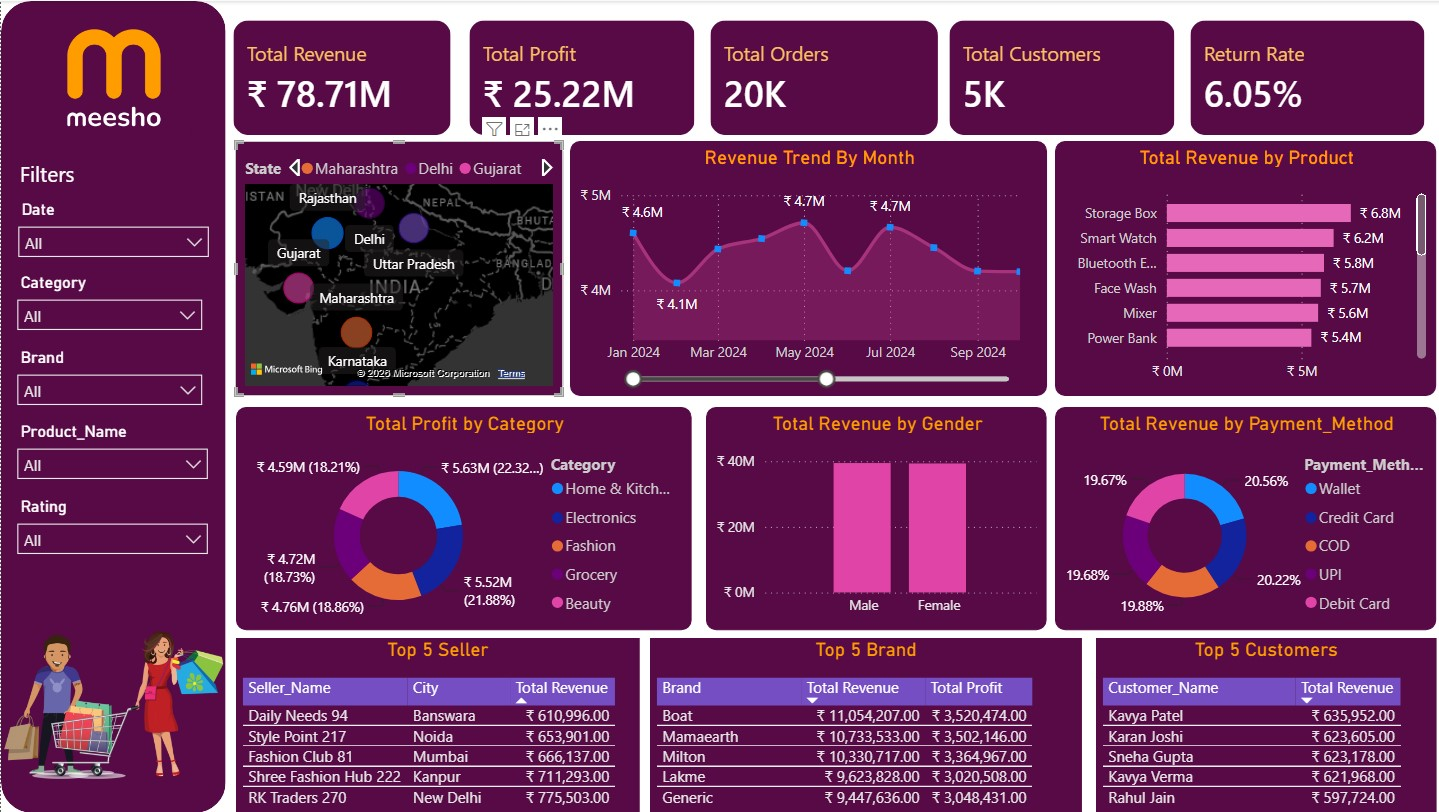

The dashboard page shown, as its layout file describes it:
{"tool":"powerbi","page":{"name":"Page 1","canvas":[1280,720],"ordinal":0},"visuals":[{"type":"shape","box":[0,0,199.4,719.8],"z":0},{"type":"image","box":[11.7,0,177,136.2],"z":1000},{"type":"cardVisual","fields":{"Data":["Orders.Total Revenue"]},"box":[189,0,227,136],"z":2000},{"type":"cardVisual","fields":{"Data":["Orders.Total Profit"]},"box":[397.8,0,234.4,136.2],"z":3000},{"type":"image","box":[0,528.1,199.4,191.6],"z":4000},{"type":"donutChart","fields":{"Category":["Products.Category"],"Y":["Orders.Total Profit"]},"box":[208,360,404,198],"z":5000},{"type":"cardVisual","fields":{"Data":["Orders.Total Orders"]},"box":[612,0,236,136],"z":6000},{"type":"cardVisual","fields":{"Data":["Customers.Total Customers"]},"box":[823.8,0,234.4,136.2],"z":7000},{"type":"cardVisual","fields":{"Data":["Returns.Return Rate"]},"box":[1037.8,0,242.2,136.2],"z":8000},{"type":"areaChart","title":"Revenue Trend By Month","fields":{"Category":["Orders.Order_Date.Variation.Date Hierarchy.Year","Orders.Order_Date.Variation.Date Hierarchy.Month"],"Y":["Orders.Total Revenue"]},"box":[504.8,124.5,423.1,225.7],"z":9000},{"type":"barChart","title":"Total Revenue by Product","fields":{"Y":["Orders.Total Revenue"],"Category":["Products.Product_Name"]},"box":[935,124,338,226],"z":10000},{"type":"donutChart","fields":{"Category":["Orders.Payment_Method"],"Y":["Orders.Total Revenue"]},"box":[935,360,338,198],"z":11000},{"type":"tableEx","title":"Top 5 Customers","fields":{"Values":["Customers.Customer_Name","Orders.Total Revenue"]},"box":[971,565,302,155],"z":12000},{"type":"columnChart","fields":{"Category":["Customers.Gender"],"Y":["Orders.Total Revenue"]},"box":[625,360,302.5,198.4],"z":13000},{"type":"tableEx","title":"Top 5 Brand","fields":{"Values":["Products.Brand","Orders.Total Revenue","Orders.Total Profit"]},"box":[575.8,565.1,383.2,154.7],"z":14000},{"type":"tableEx","title":"Top 5 Seller","fields":{"Values":["Sellers.Seller_Name","Sellers.City","Orders.Total Revenue"]},"box":[208,565,358,155],"z":15000},{"type":"slicer","fields":{"Values":["Orders.Order_Date.Variation.Date Hierarchy.Year","Orders.Order_Date.Variation.Date Hierarchy.Month"]},"box":[5,172,189,66],"z":16000},{"type":"textbox","box":[11.5,135.6,78,36],"z":17000},{"type":"slicer","fields":{"Values":["Products.Category"]},"box":[4.8,236.6,183.7,66.4],"z":18000},{"type":"slicer","fields":{"Values":["Products.Brand"]},"box":[4.8,302.9,184,66],"z":19000},{"type":"slicer","fields":{"Values":["Products.Product_Name"]},"box":[4.8,369.3,189,66],"z":20000},{"type":"slicer","fields":{"Values":["Products.Rating"]},"box":[4.8,435.6,189,66],"z":21000},{"type":"map","fields":{"Category":["Customers.State"],"Size":["Orders.Total Revenue"],"Series":["Customers.State"]},"box":[207.5,124.1,290.8,226.1],"z":21001}]}

Visuals, with their boxes in screenshot pixels (x1, y1, x2, y2), scaled from the page's 1280x720 canvas onto the 1439x812 screenshot:
shape: (0,0,224,811)
image: (13,0,212,154)
cardVisual - Orders.Total Revenue: (212,0,468,153)
cardVisual - Orders.Total Profit: (447,0,711,154)
image: (0,596,224,811)
donutChart - Products.Category x Orders.Total Profit: (234,406,688,629)
cardVisual - Orders.Total Orders: (688,0,953,153)
cardVisual - Customers.Total Customers: (926,0,1190,154)
cardVisual - Returns.Return Rate: (1167,0,1438,154)
"Revenue Trend By Month" areaChart: (568,140,1043,395)
"Total Revenue by Product" barChart: (1051,140,1431,395)
donutChart - Orders.Payment_Method x Orders.Total Revenue: (1051,406,1431,629)
"Top 5 Customers" tableEx: (1092,637,1431,811)
columnChart - Customers.Gender x Orders.Total Revenue: (703,406,1043,630)
"Top 5 Brand" tableEx: (647,637,1078,811)
"Top 5 Seller" tableEx: (234,637,636,811)
slicer - Orders.Order_Date.Variation.Date Hierarchy.Year x Orders.Order_Date.Variation.Date Hierarchy.Month: (6,194,218,268)
textbox: (13,153,101,194)
slicer - Products.Category: (5,267,212,342)
slicer - Products.Brand: (5,342,212,416)
slicer - Products.Product_Name: (5,416,218,491)
slicer - Products.Rating: (5,491,218,566)
map - Customers.State x Orders.Total Revenue: (233,140,560,395)
